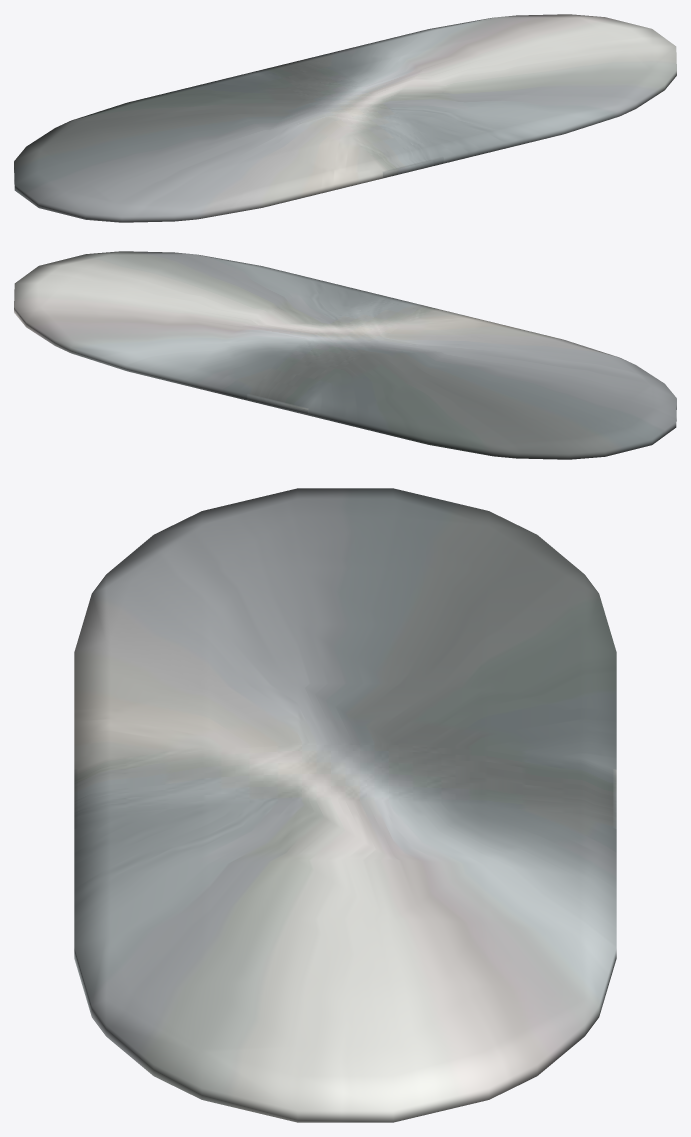
File: platform.obj
3 views of the same model, one above another, from view 1: azimuth 30°, elevation 25°; view 2: azimuth 150°, elevation 25°; view 3: azimuth 270°, elevation 25° (orthographic). The views are drawn at different scales.
Parts seen in each view (by area): view 1: Mball; view 2: Mball; view 3: Mball.
Boxes of the visible parts, box(x1,y1,x2,y2) form: Mball: box(14, 14, 676, 222); Mball: box(14, 251, 676, 459); Mball: box(74, 488, 616, 1122).
Bounding box in the file's own units: 7.09 × 0.3574 × 2.61.
1 material, 1 textured.
